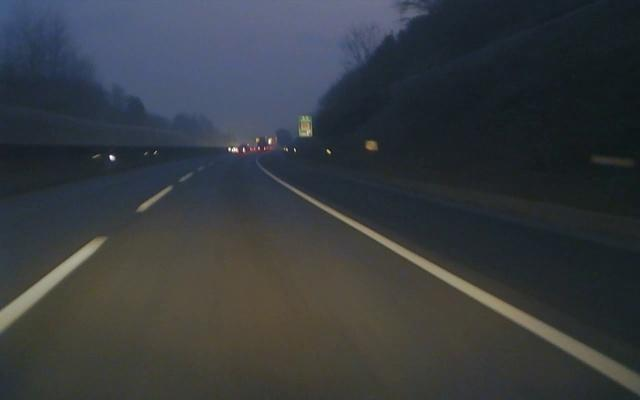lane: (282, 183, 634, 398), (0, 187, 174, 336)
